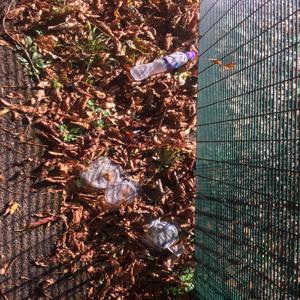plastic: (135, 219, 182, 253), (80, 157, 124, 188), (102, 180, 139, 207)
plastic bottle: (124, 42, 198, 87)
